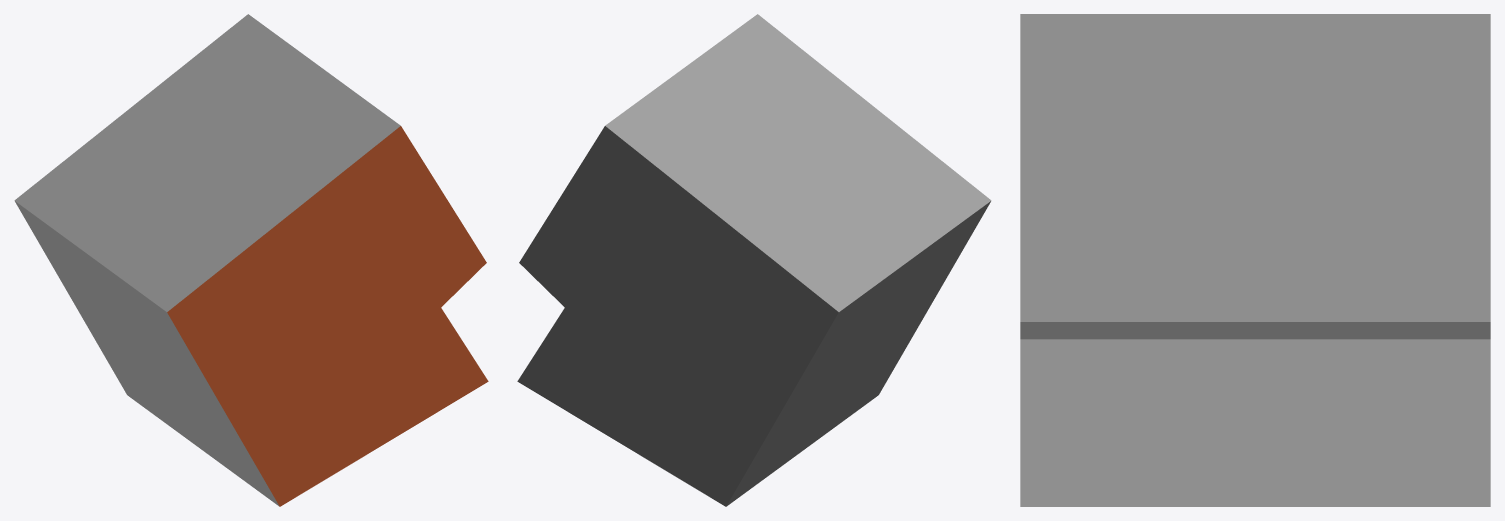
File: construction_6955_assumed_A_Casa_h6m.obj
3 views of the same model, side by side, from view 1: azimuth 30°, elevation 25°; view 2: azimuth 150°, elevation 25°; view 3: azimuth 270°, elevation 25° (orthographic). The views are drawn at different scales.
Visible parts, largest first — view 1: construction_6955_assumed_A_Casa; view 2: construction_6955_assumed_A_Casa; view 3: construction_6955_assumed_A_Casa.
Part boxes in pixels (x1,y1,x2,y2): construction_6955_assumed_A_Casa: (14, 14, 488, 506); construction_6955_assumed_A_Casa: (517, 14, 991, 506); construction_6955_assumed_A_Casa: (1020, 14, 1490, 506).
Bounding box in the file's own units: 7.3 × 7.62 × 6.
